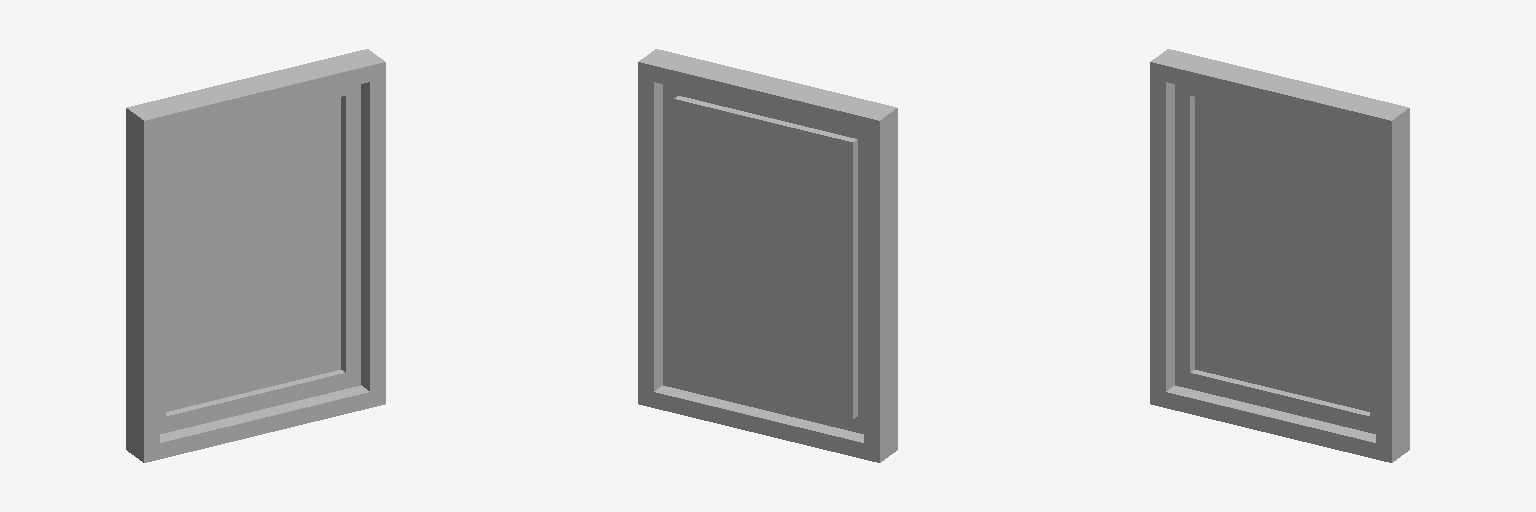
The model's file is frame2.obj.
The picture shows the model from 3 angles: view 1: azimuth 30°, elevation 25°; view 2: azimuth 150°, elevation 25°; view 3: azimuth 330°, elevation 25°; orthographic projection.
Visible parts, largest first — view 1: Group_001; view 2: Group_001; view 3: Group_001.
Boxes of the visible parts, x1,y1,x2,y2 form: Group_001: [126, 49, 385, 462]; Group_001: [638, 49, 897, 462]; Group_001: [1150, 49, 1409, 462].
Bounding box in the file's own units: 12.2 × 16.54 × 1.57.